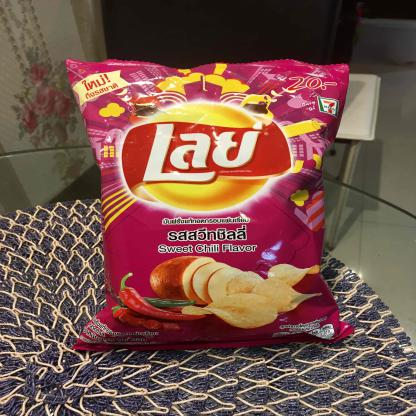potatochip: (51, 50, 365, 354)
